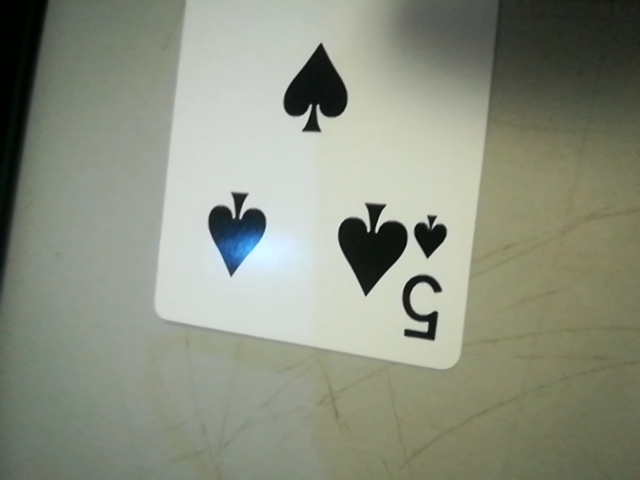ht 5: (394, 198, 460, 354)
